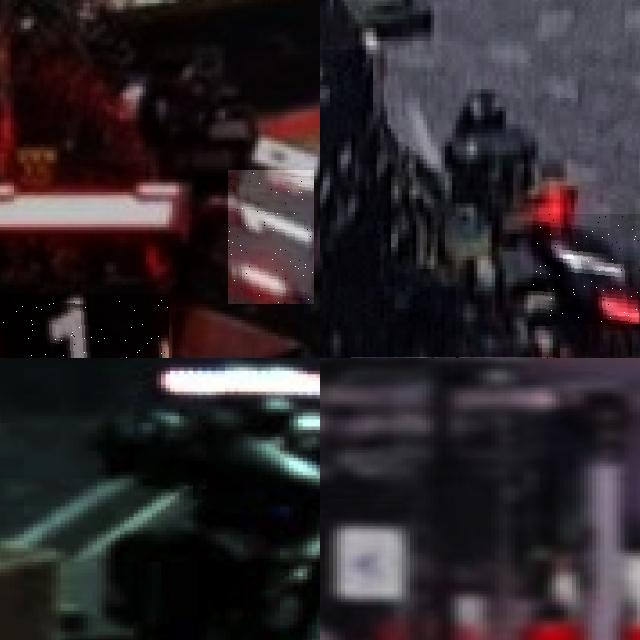R1: (533, 214, 640, 323), (228, 170, 314, 304), (0, 294, 169, 358)
